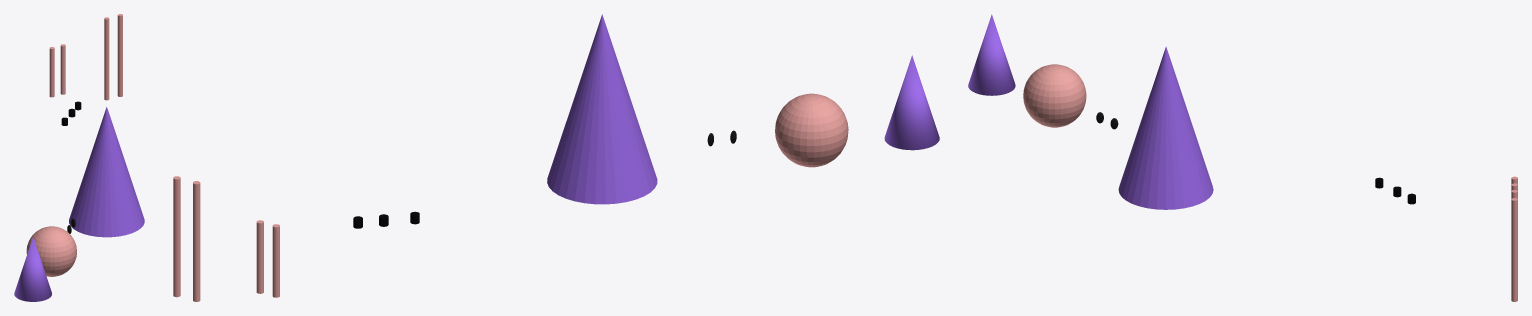
The picture shows the model from 3 angles, left to right: view 1: azimuth 30°, elevation 25°; view 2: azimuth 150°, elevation 25°; view 3: azimuth 270°, elevation 25°; orthographic projection. The views are drawn at different scales.
Parts seen in each view (by area): view 1: 小人.002, 小人.010, 小人.001, 小人.003, 小人.004, 小人.005, 小人.006; view 2: 小人.002, 小人.010, 小人.001, 小人.004, 小人.003, 小人.005, 小人.006; view 3: 小人.002, 小人.010, 小人.001, 小人.004.
Boxes of the visible parts, x1,y1,x2,y2 form: 小人.002: [69, 107, 144, 237]; 小人.010: [26, 226, 76, 276]; 小人.001: [14, 237, 51, 301]; 小人.003: [104, 17, 109, 100]; 小人.004: [117, 14, 122, 96]; 小人.005: [49, 47, 54, 97]; 小人.006: [60, 44, 65, 94]; 小人.002: [547, 14, 657, 204]; 小人.010: [775, 93, 848, 167]; 小人.001: [884, 55, 939, 150]; 小人.004: [173, 176, 180, 297]; 小人.003: [193, 181, 200, 301]; 小人.005: [272, 224, 279, 297]; 小人.006: [256, 220, 263, 293]; 小人.002: [1118, 46, 1213, 209]; 小人.010: [1023, 64, 1086, 127]; 小人.001: [968, 14, 1015, 95]; 小人.004: [1511, 198, 1517, 301].
Bounding box in the file's own units: 2.93 × 1.14 × 3.54.
